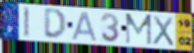3: (99, 12, 121, 44)
A: (71, 11, 100, 43)
D: (43, 8, 69, 41)
I: (22, 6, 31, 39)
M: (125, 13, 154, 46)
X: (152, 14, 176, 47)
